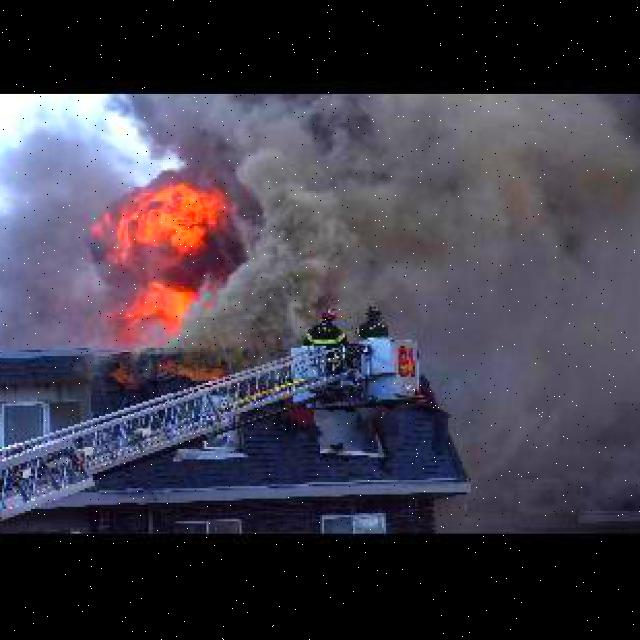fire: (99, 170, 229, 338)
smoke: (215, 131, 353, 317)
